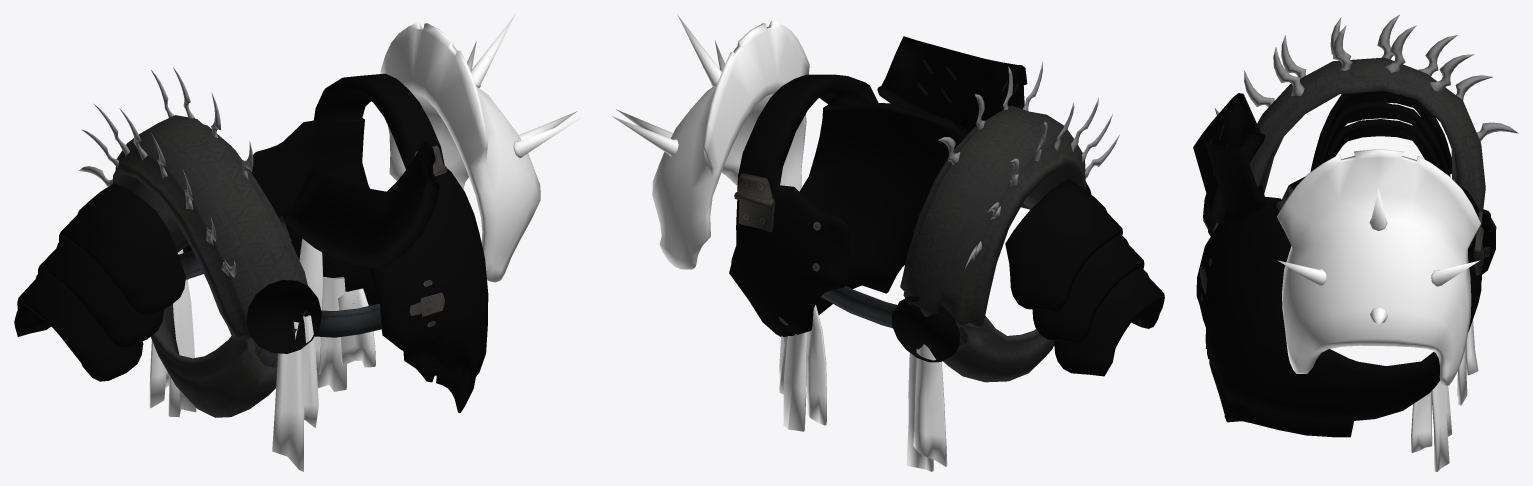
The model's file is SurvivorMale_Armor_Torso_Wasteland_LOD0.glb.
3 renders of one model, left to right at view 1: azimuth 30°, elevation 25°; view 2: azimuth 150°, elevation 25°; view 3: azimuth 270°, elevation 25°, orthographic. The views are drawn at different scales.
Visible parts, largest first — view 1: Hoodie; view 2: Hoodie; view 3: Hoodie.
Boxes of the visible parts, x1,y1,x2,y2 form: Hoodie: (14,14,581,471); Hoodie: (612,14,1164,471); Hoodie: (1193,14,1518,471).
Bounding box in the file's own units: 0.7759 × 0.5136 × 0.4178.
Materials: 1 (1 with a texture image).
